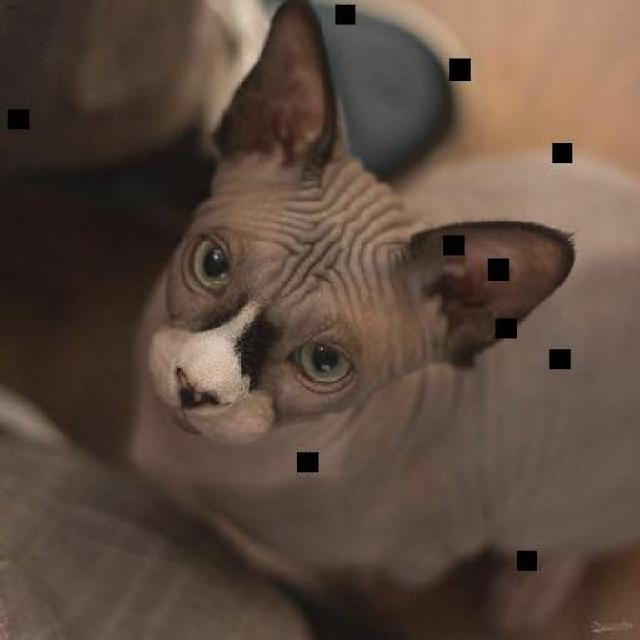unauthorized: (0, 0, 638, 638), (135, 0, 577, 448)
